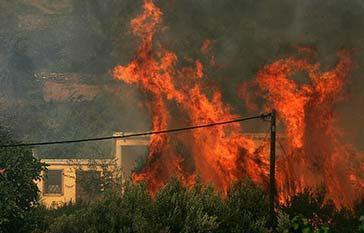fire: (113, 5, 264, 188), (262, 49, 358, 199)
